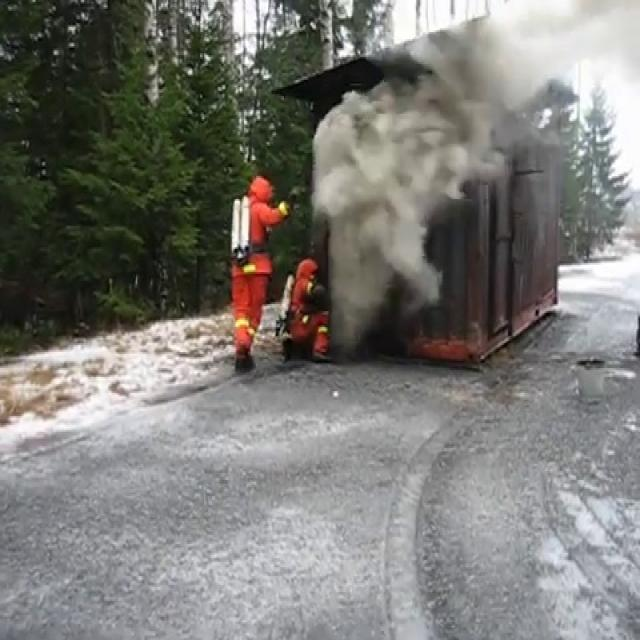Smoke: (312, 0, 640, 347)
